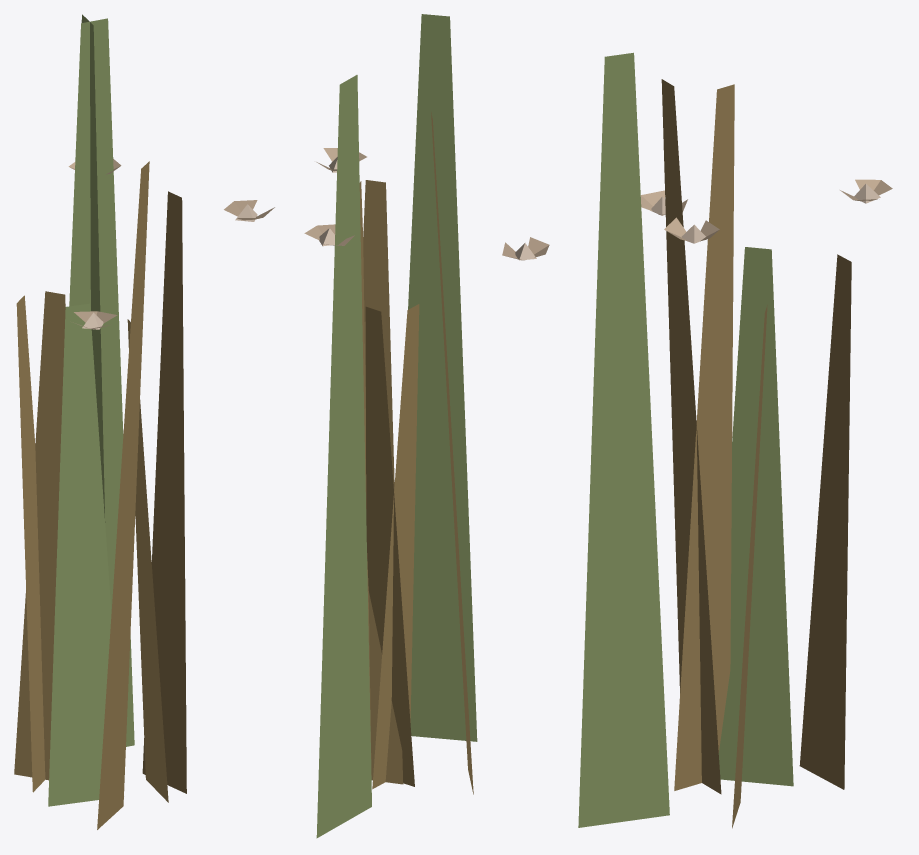
File: shui.pucao__autumn.glb
3 renders of one model, left to right at view 1: azimuth 30°, elevation 25°; view 2: azimuth 150°, elevation 25°; view 3: azimuth 270°, elevation 25°, orthographic. The views are drawn at different scales.
Parts seen in each view (by area): view 1: shui.pucao__autumn; view 2: shui.pucao__autumn; view 3: shui.pucao__autumn.
Part boxes in pixels (box(x1,y1,x2,y2)): shui.pucao__autumn: box(14, 14, 274, 829); shui.pucao__autumn: box(304, 14, 549, 838); shui.pucao__autumn: box(578, 52, 892, 828).
Size of the model in its own units: 0.6381 by 2.11 by 0.7877.
